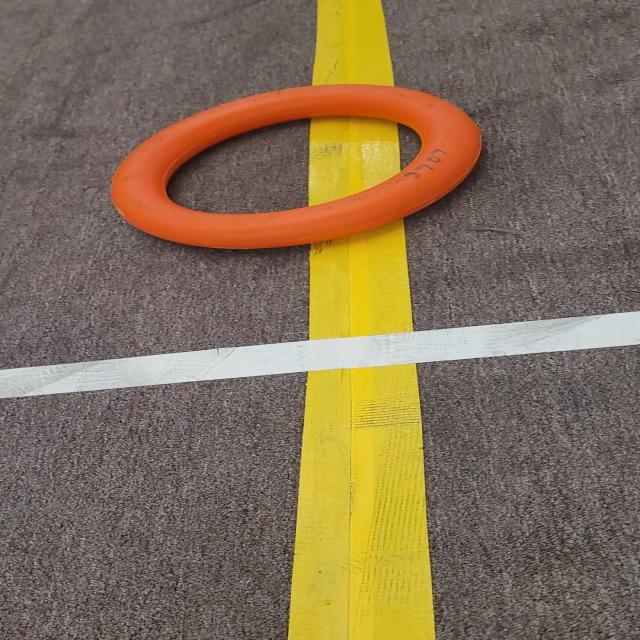note: (85, 70, 523, 267)
